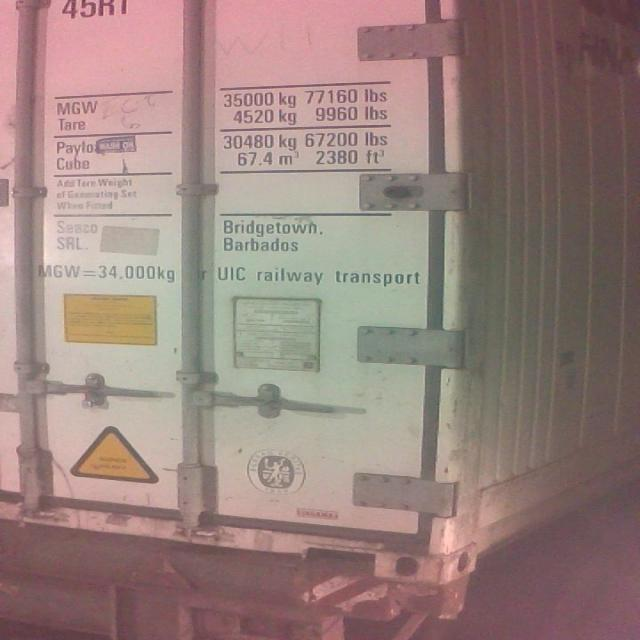seal: (77, 383, 104, 414)
